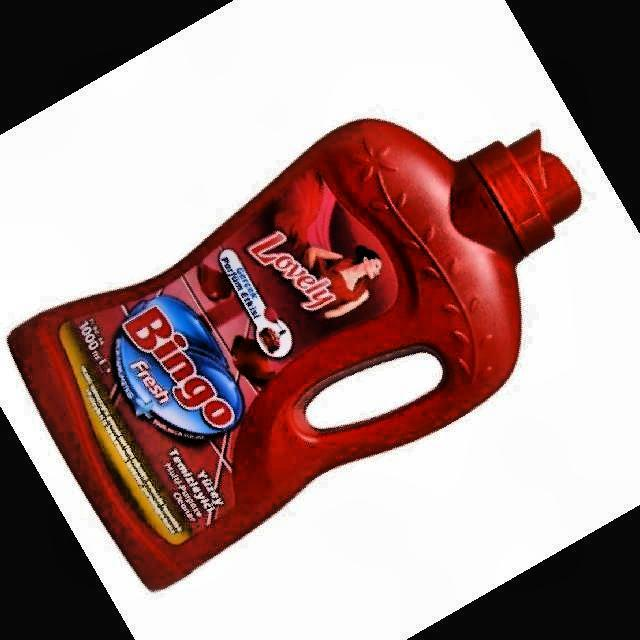plastic: (9, 120, 580, 589)
